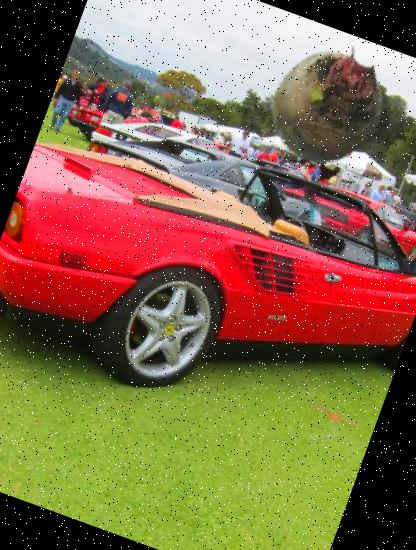Beetroot: (239, 17, 416, 194)
